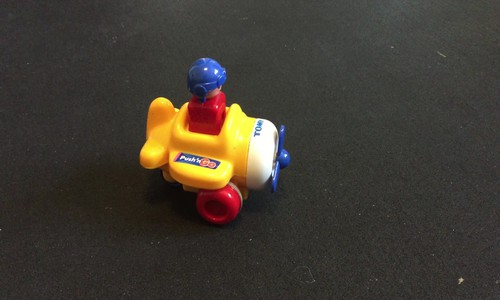toy: (122, 52, 294, 223)
